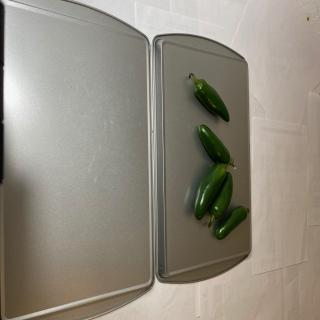Chilli: (188, 72, 230, 122), (208, 171, 234, 228), (198, 124, 231, 164), (215, 205, 249, 240)
